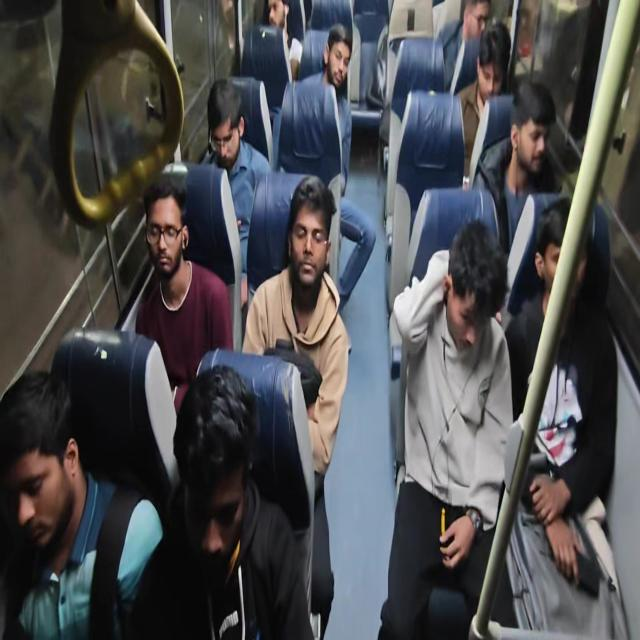person: (168, 365, 256, 571), (1, 362, 84, 559), (442, 222, 512, 360), (283, 176, 334, 302), (533, 202, 594, 303), (507, 84, 559, 180), (141, 186, 193, 281), (202, 78, 250, 165), (472, 23, 514, 93), (319, 19, 352, 96), (248, 0, 294, 40), (459, 0, 499, 34)
